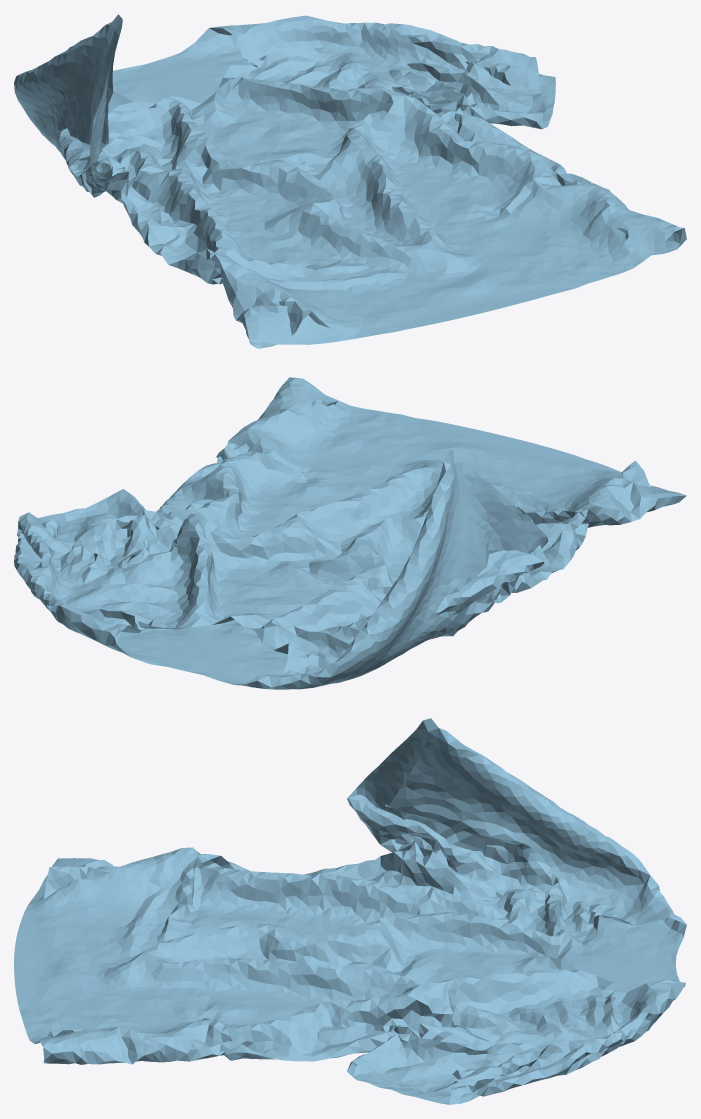
File: frame_10.glb
The picture shows the model from 3 angles, top to bottom: view 1: azimuth 30°, elevation 25°; view 2: azimuth 150°, elevation 25°; view 3: azimuth 270°, elevation 25°; orthographic projection. The views are drawn at different scales.
Parts seen in each view (by area): view 1: frame_10.obj; view 2: frame_10.obj; view 3: frame_10.obj.
Part boxes in pixels (left/top/right/bottom): frame_10.obj: left=14, top=14, right=686, bottom=348; frame_10.obj: left=14, top=377, right=686, bottom=689; frame_10.obj: left=14, top=718, right=686, bottom=1104.
Bounding box in the file's own units: 1.51 × 0.5135 × 1.73.
